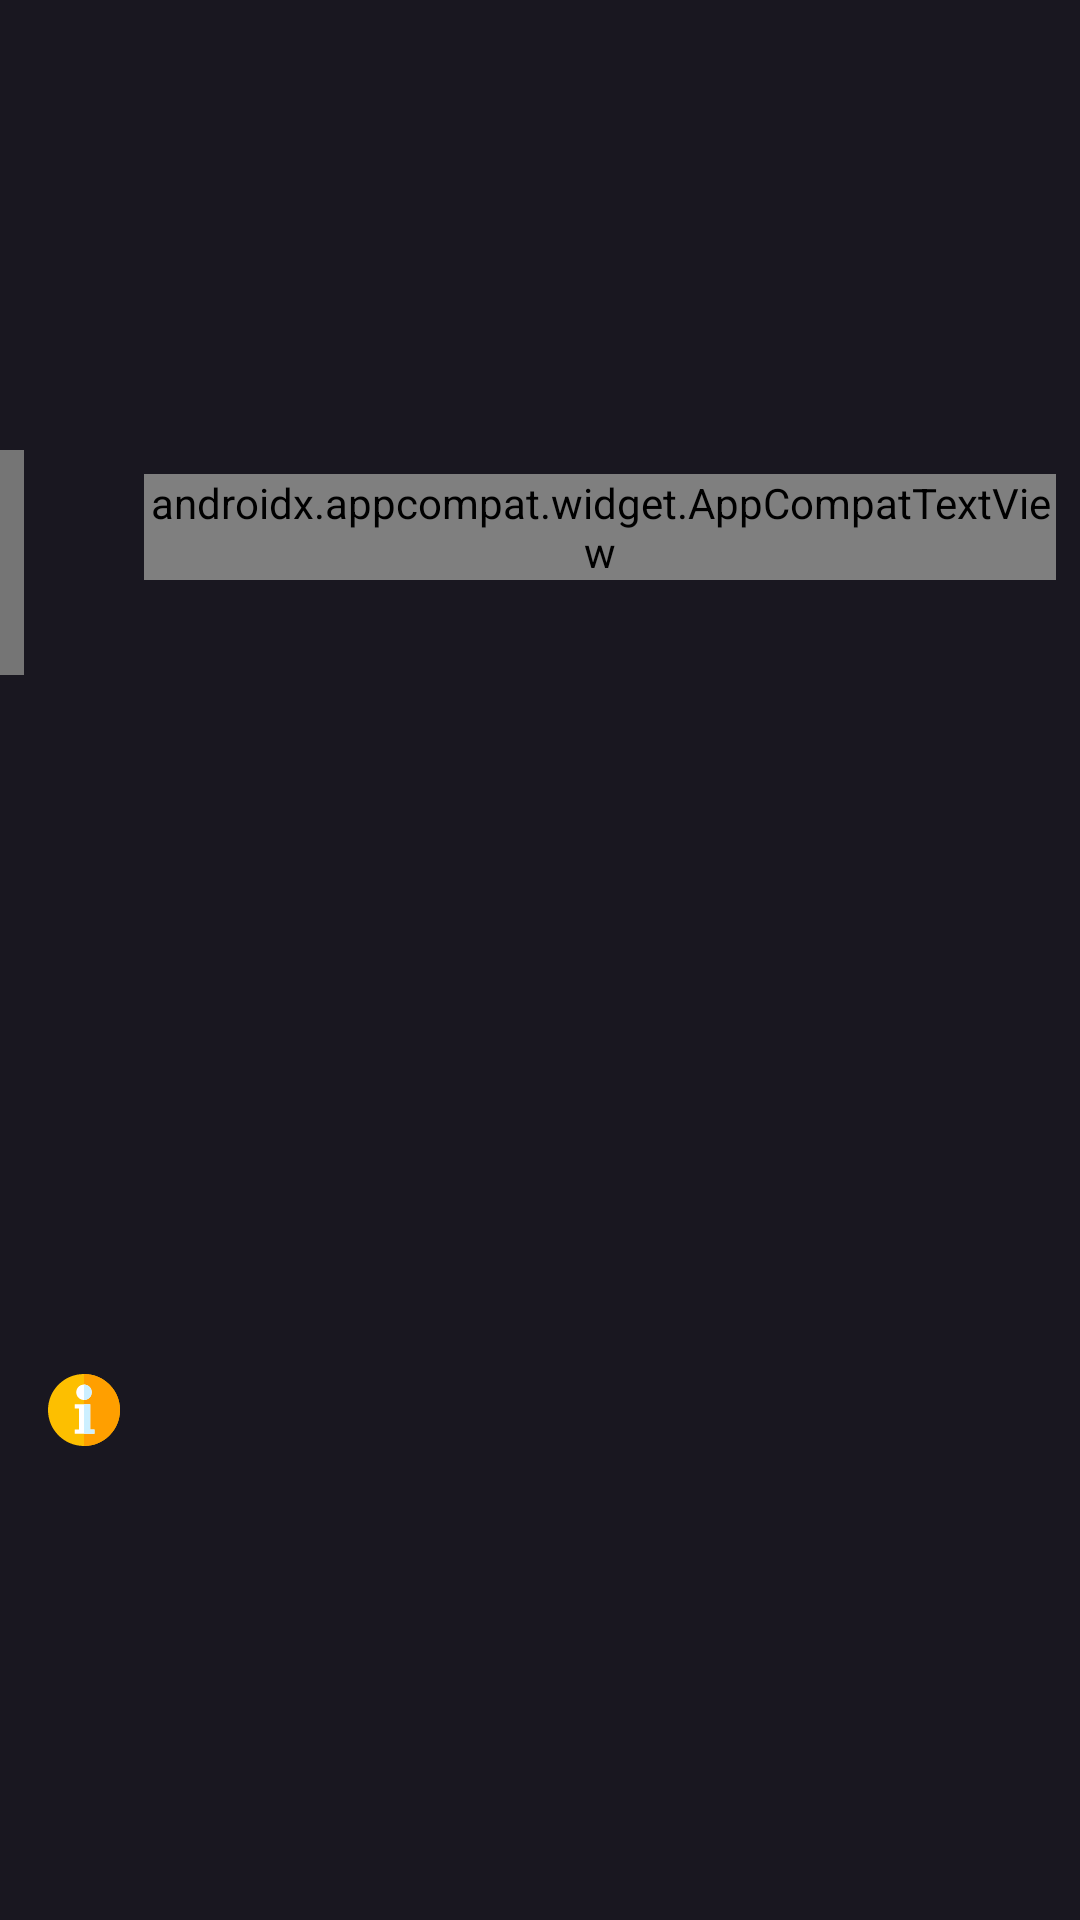

Screen size 1080w x 1920h. Icon name, then its center in pixels as (x=x, y=y):
info: (x=84, y=1410)
